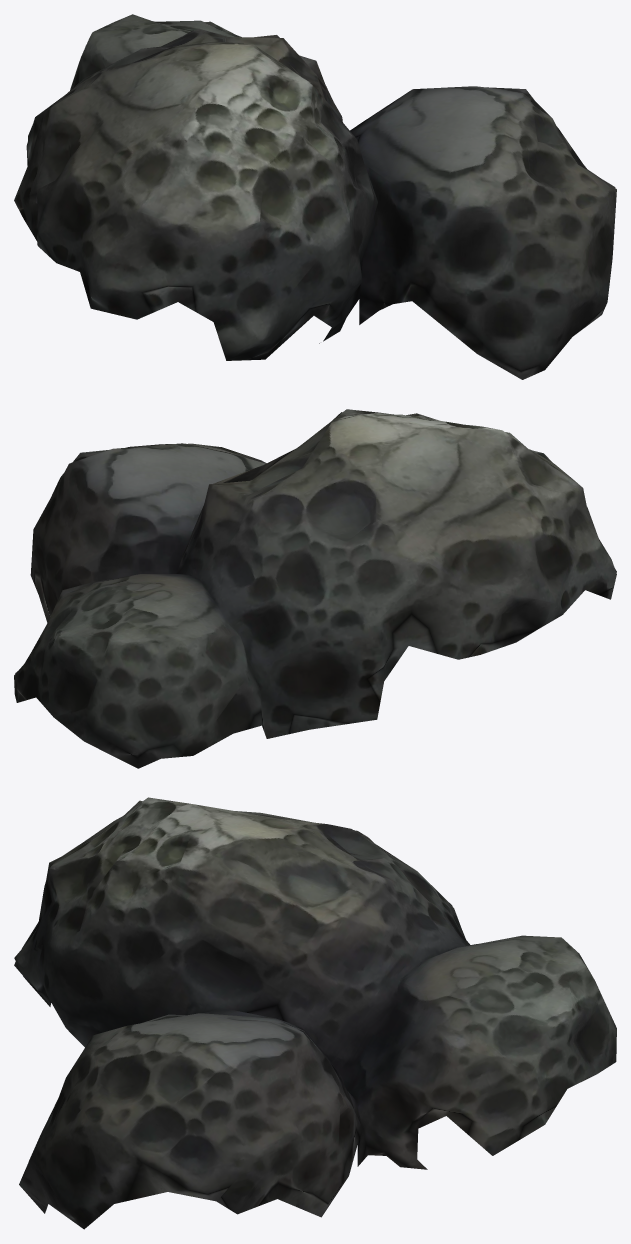
Rendered from desert-rock-1.glb.
3 views of the same model, one above another, from view 1: azimuth 30°, elevation 25°; view 2: azimuth 150°, elevation 25°; view 3: azimuth 270°, elevation 25° (orthographic). The views are drawn at different scales.
Visible parts, largest first — view 1: geometry_0; view 2: geometry_0; view 3: geometry_0.
Part boxes in pixels (bbox=[...]): geometry_0: bbox=[14, 14, 616, 379]; geometry_0: bbox=[14, 409, 616, 768]; geometry_0: bbox=[14, 797, 616, 1229].
Size of the model in its own units: 0.9971 by 0.5269 by 0.9752.
Materials: 1 (1 with a texture image).
